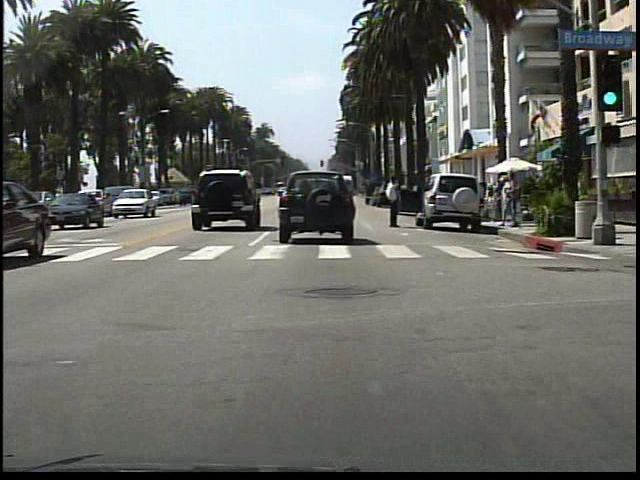person: (379, 171, 405, 231)
